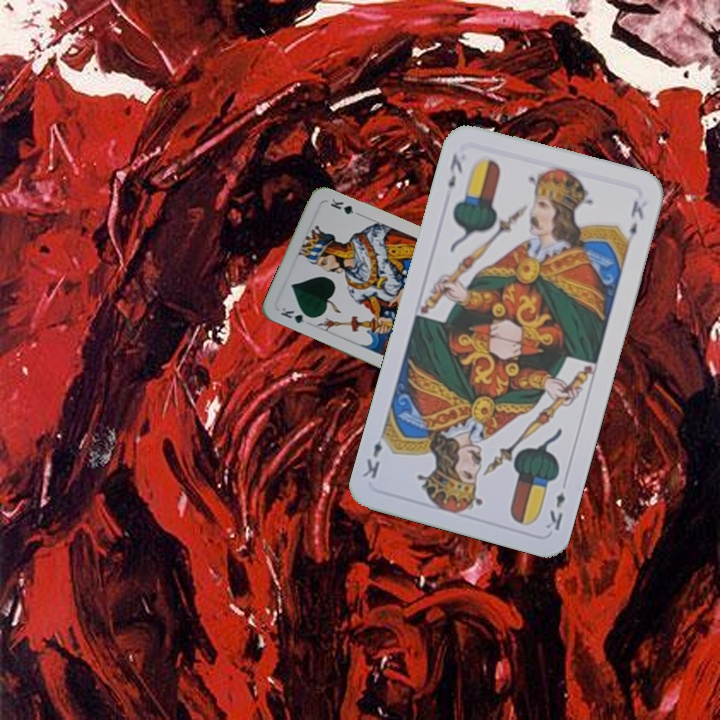EK: (542, 488, 568, 533), (443, 149, 466, 191)
GK: (276, 303, 316, 326)
